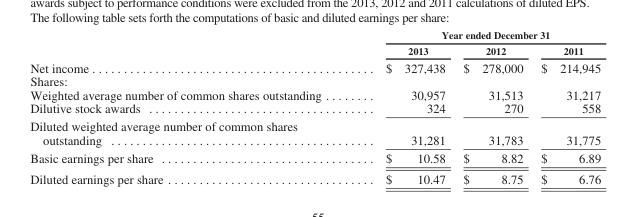table: (29, 29, 600, 185)
table column: (29, 29, 352, 185), (352, 29, 453, 185), (453, 29, 531, 185), (531, 29, 600, 185)
table column header: (29, 29, 600, 58)
table projected row header: (29, 74, 600, 87)
table row: (29, 116, 600, 148), (29, 148, 600, 168), (29, 168, 600, 185), (29, 42, 600, 58), (29, 58, 600, 74), (29, 101, 600, 116), (29, 87, 600, 101), (29, 29, 600, 42), (29, 74, 600, 87)
table spanning cell: (352, 29, 600, 42)
